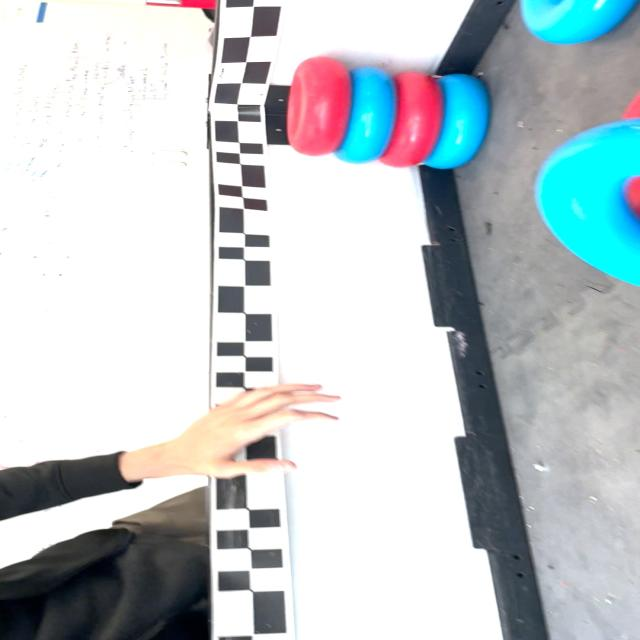Blue-Ring: (536, 119, 640, 285), (424, 74, 489, 169), (336, 68, 396, 164), (520, 0, 637, 44)
Red-Ring: (287, 56, 351, 156), (380, 71, 442, 168)
